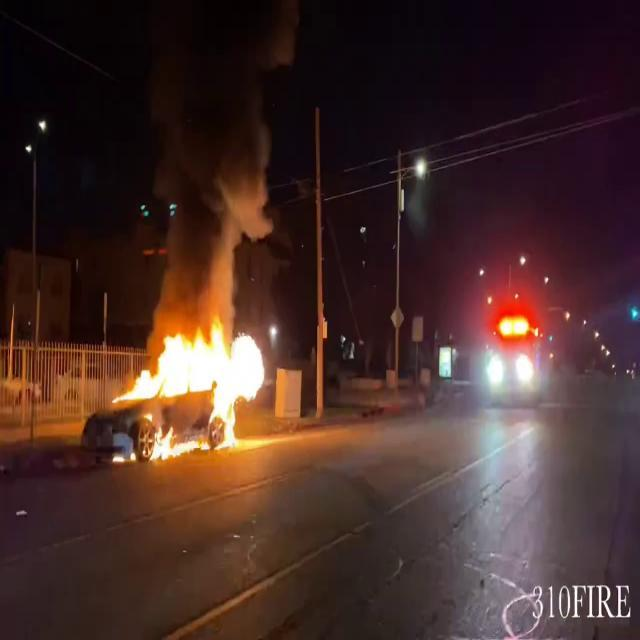Fire: (121, 306, 273, 459)
Smoke: (139, 2, 302, 316)
